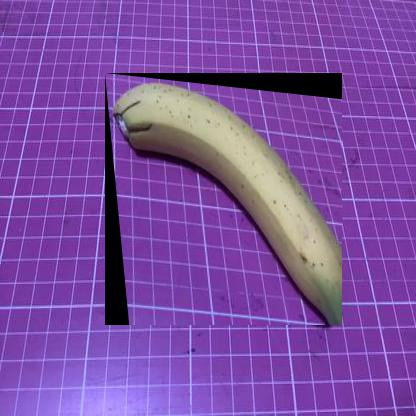bananarotation: (105, 73, 343, 326)
